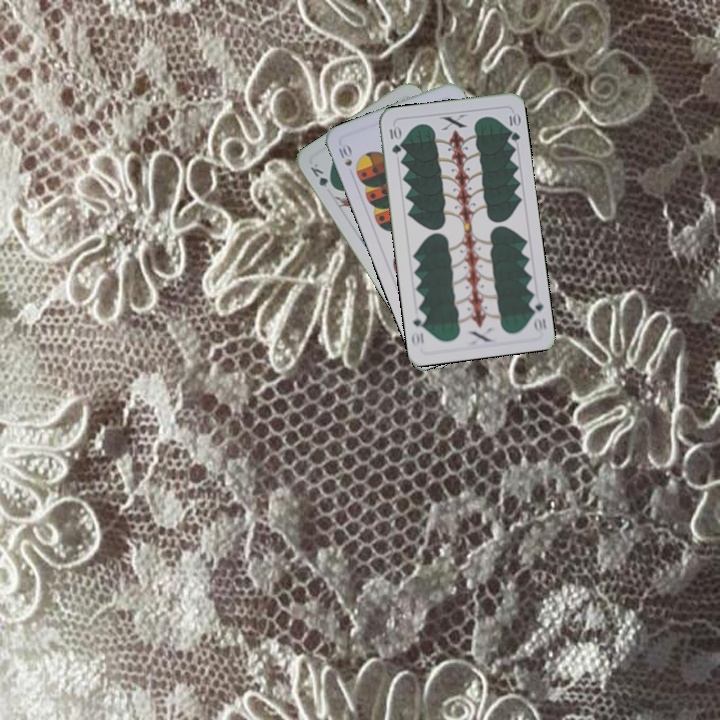G10: (526, 293, 549, 334), (385, 122, 404, 157)
GK: (306, 159, 338, 193)
S10: (333, 140, 355, 169)
